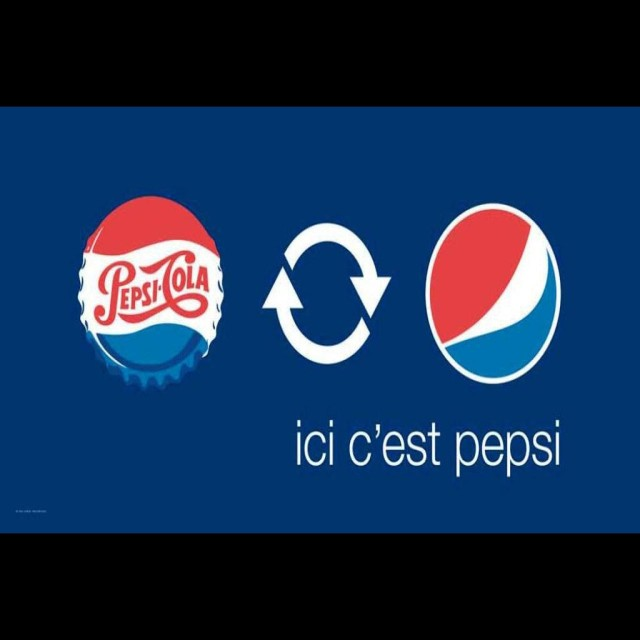pepsi: (424, 203, 565, 382)
